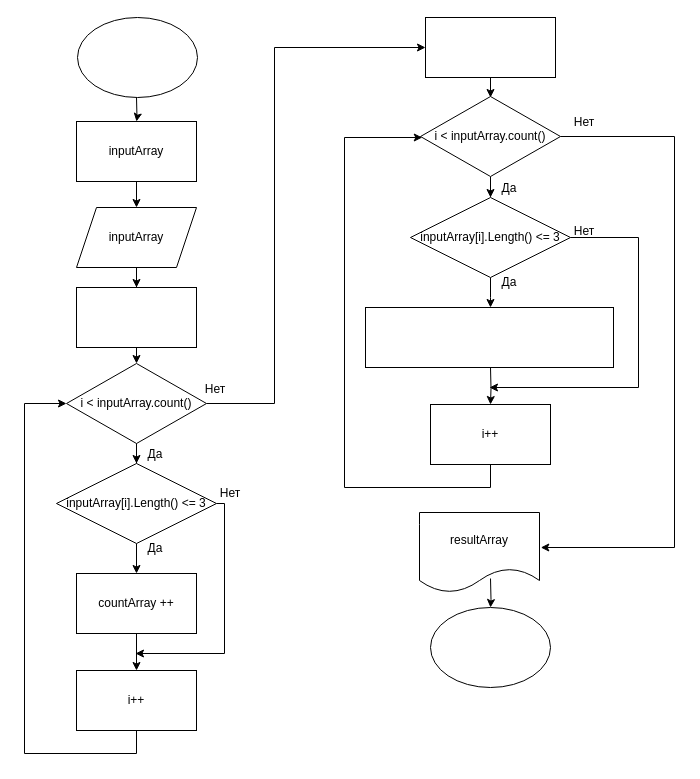
Some shapes in this 700 by 779 pixel diagram are drawn without their labels. The centre of each missing label's shape, as x and y in pixels:
countArray = 0 i = 0: pixel 136 317
resultArray[countArray] indexResultArray = 0 i = 0: pixel 490 47
resultArray[indexResultArray] = inputArray[i]; indexResultArray++;: pixel 489 337
Конец: pixel 490 647
Начало: pixel 137 57
